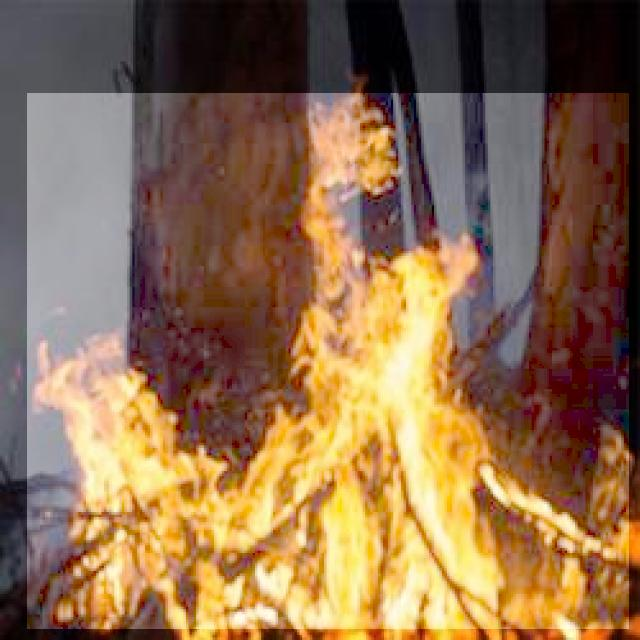Fire: (28, 93, 630, 629)
